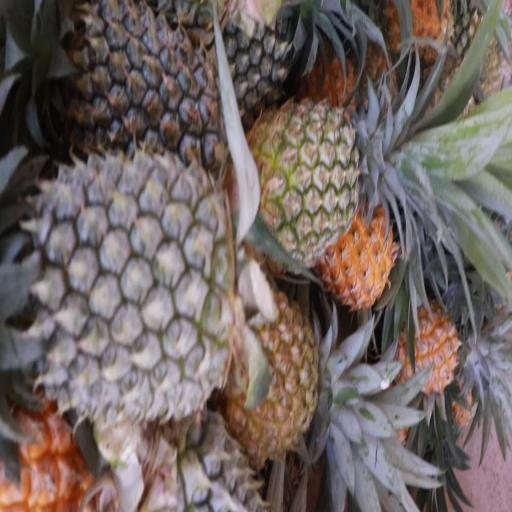------------------------------: (251, 103, 370, 263), (230, 296, 320, 453)
Pineapple - v8 v1: (325, 195, 395, 307), (392, 309, 462, 391)
